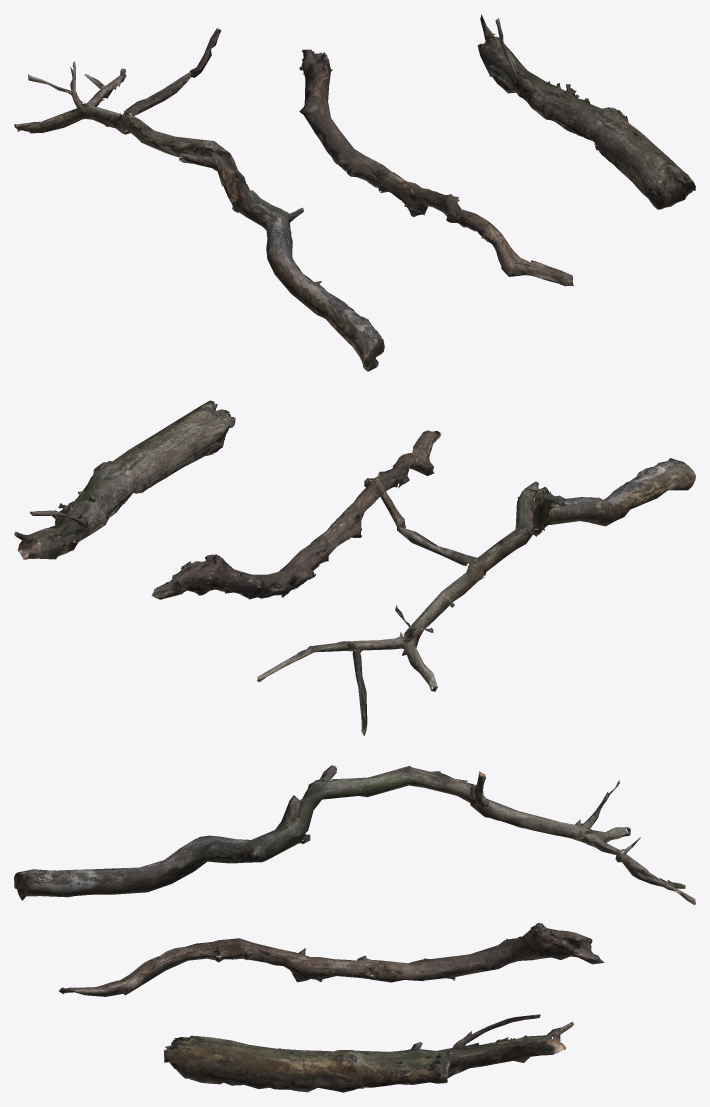
The model's file is dry_branches_medium_01_lod.glb.
3 views of the same model, one above another, from view 1: azimuth 30°, elevation 25°; view 2: azimuth 150°, elevation 25°; view 3: azimuth 270°, elevation 25° (orthographic). The views are drawn at different scales.
Parts seen in each view (by area): view 1: dry_branches_medium_01_a, dry_branches_medium_01_c, dry_branches_medium_01_b; view 2: dry_branches_medium_01_a, dry_branches_medium_01_c, dry_branches_medium_01_b; view 3: dry_branches_medium_01_a, dry_branches_medium_01_c, dry_branches_medium_01_b.
Boxes of the visible parts, x1=… form: dry_branches_medium_01_a: x1=14, y1=28, x2=384, y2=371; dry_branches_medium_01_c: x1=477, y1=14, x2=695, y2=209; dry_branches_medium_01_b: x1=299, y1=49, x2=573, y2=286; dry_branches_medium_01_a: x1=257, y1=458, x2=695, y2=735; dry_branches_medium_01_c: x1=14, y1=400, x2=235, y2=559; dry_branches_medium_01_b: x1=151, y1=430, x2=441, y2=599; dry_branches_medium_01_a: x1=14, y1=765, x2=695, y2=904; dry_branches_medium_01_c: x1=163, y1=1014, x2=573, y2=1092; dry_branches_medium_01_b: x1=59, y1=923, x2=604, y2=996.
Size of the model in its own units: 1.06 by 0.3401 by 1.3.
Materials: 1 (1 with a texture image).
